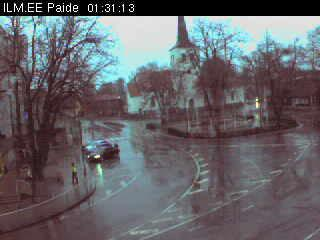car: (90, 143, 120, 161), (87, 142, 111, 159), (84, 139, 107, 153)
person: (71, 161, 80, 184)
